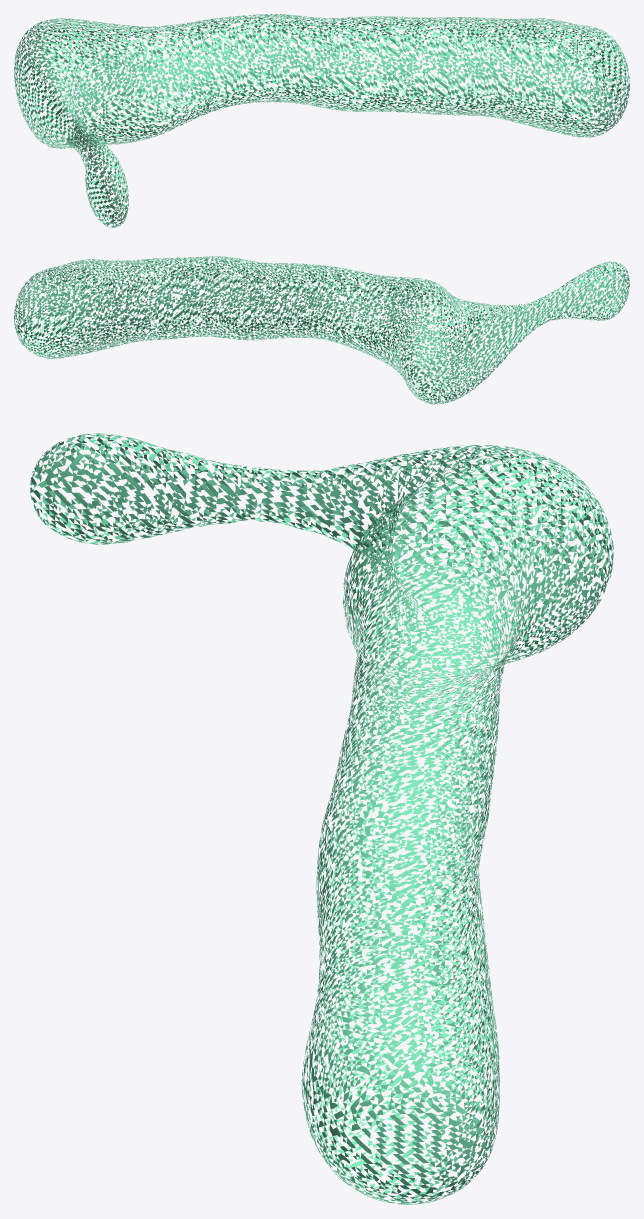
The model's file is healthy.glb.
3 views of the same model, one above another, from view 1: azimuth 30°, elevation 25°; view 2: azimuth 150°, elevation 25°; view 3: azimuth 270°, elevation 25° (orthographic). The views are drawn at different scales.
Bounding box in the file's own units: 137 × 43.74 × 67.31.
